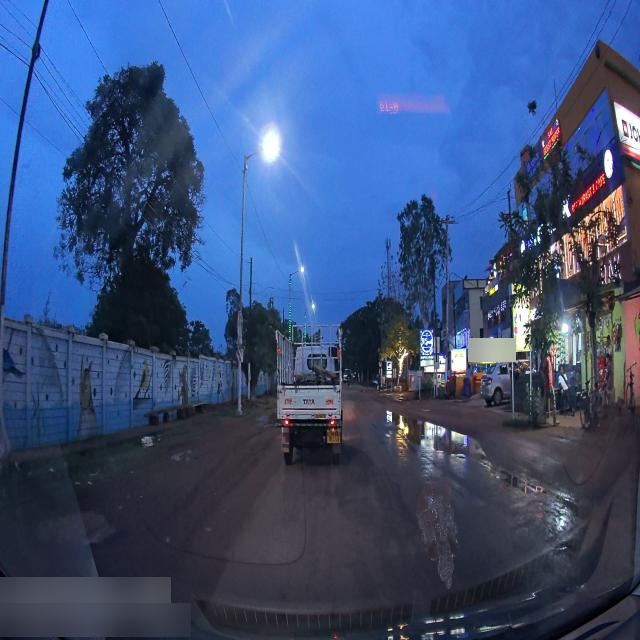pothole: (388, 418, 491, 463), (37, 508, 117, 563), (490, 461, 548, 499)
